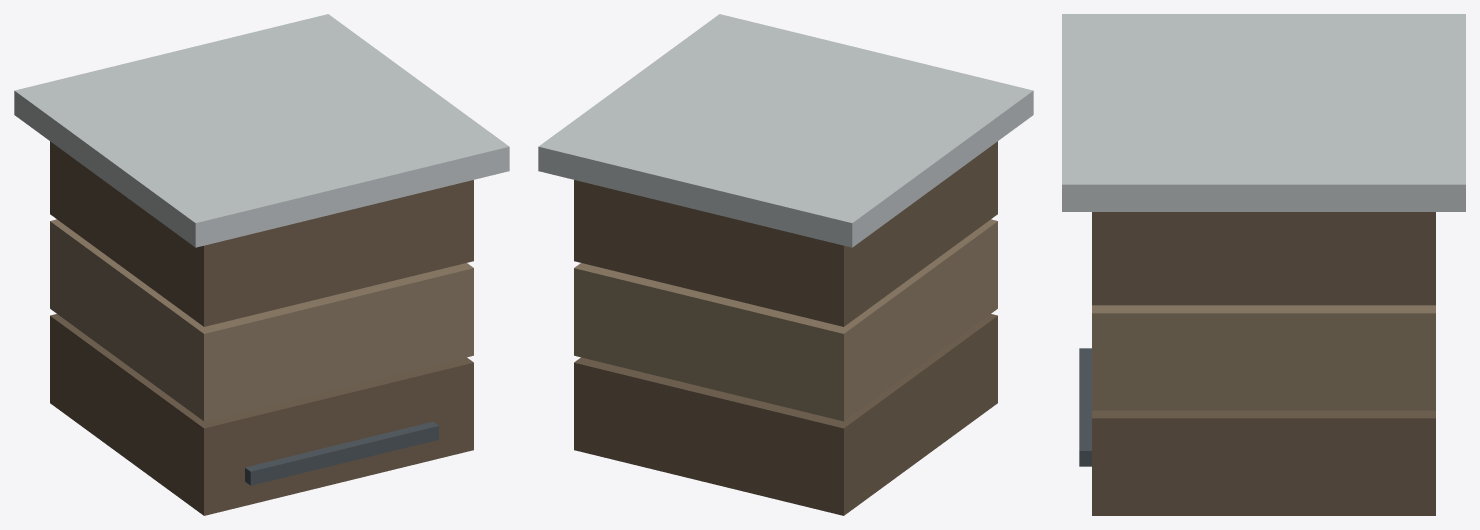
File: hive_box.glb
The picture shows the model from 3 angles, left to right: view 1: azimuth 30°, elevation 25°; view 2: azimuth 150°, elevation 25°; view 3: azimuth 270°, elevation 25°; orthographic projection. The views are drawn at different scales.
Visible parts, largest first — view 1: hive_box; view 2: hive_box; view 3: hive_box.
Boxes of the visible parts, x1,y1,x2,y2 form: hive_box: [14, 14, 509, 515]; hive_box: [538, 14, 1033, 515]; hive_box: [1062, 14, 1465, 515].
Bounding box in the file's own units: 0.96 × 0.9 × 0.96.
